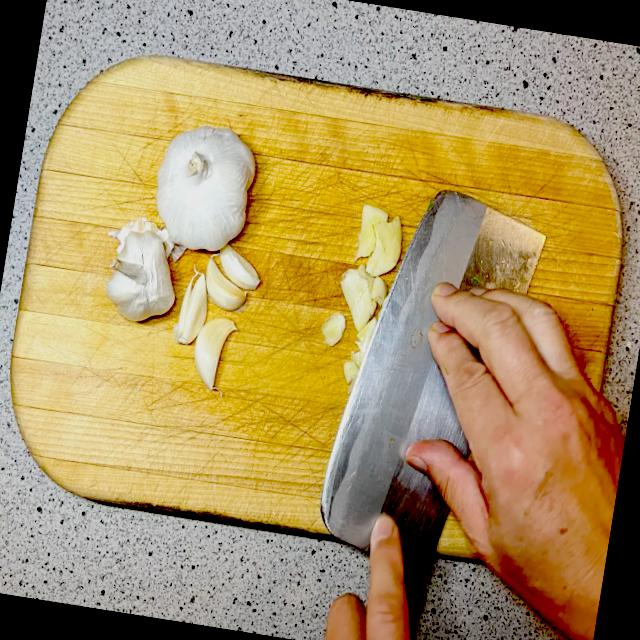cleaver: (292, 175, 640, 640)
